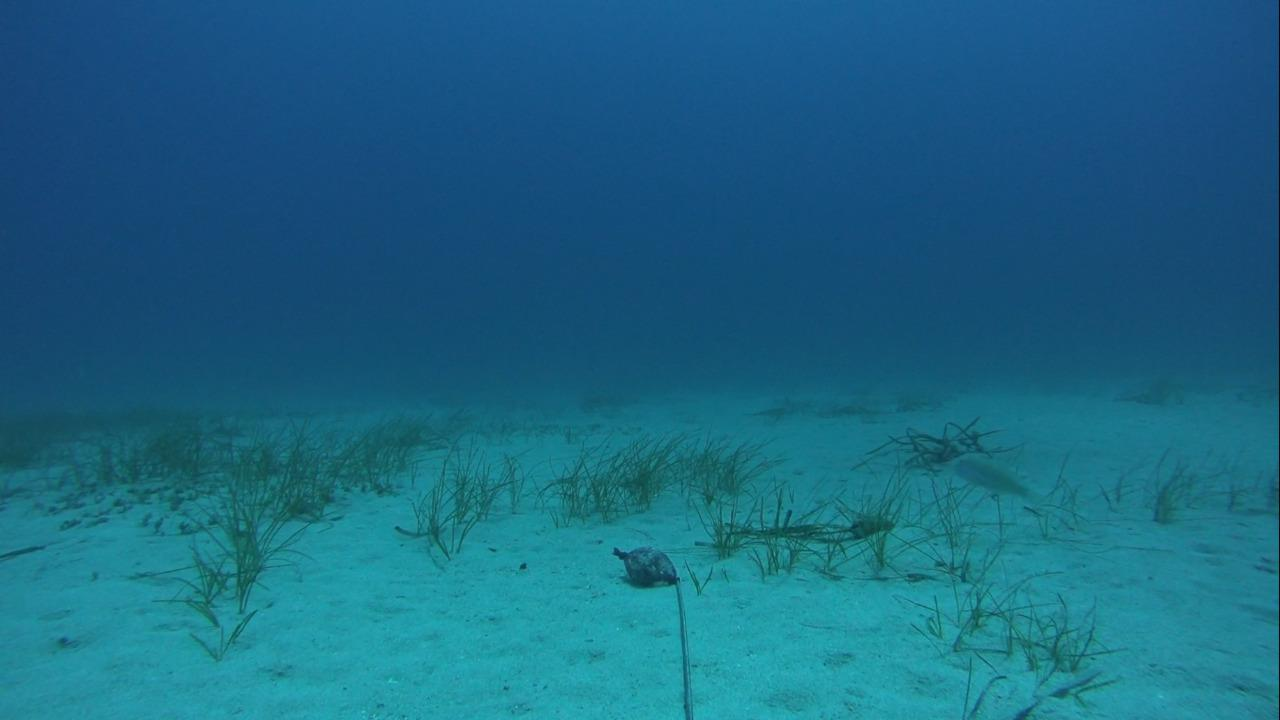raor: (943, 449, 1033, 502)
